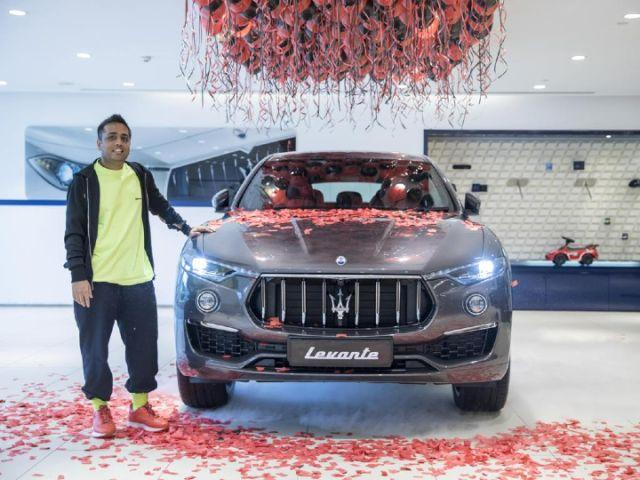maserati: (174, 151, 514, 413)
